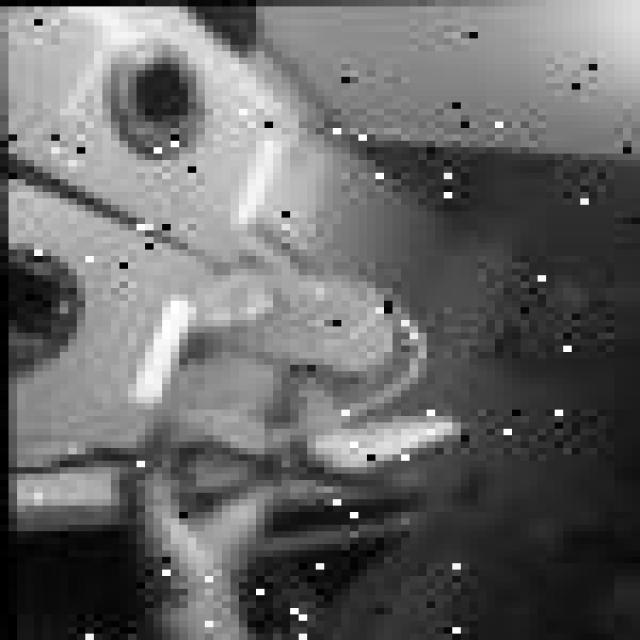O: (102, 397, 299, 608)
